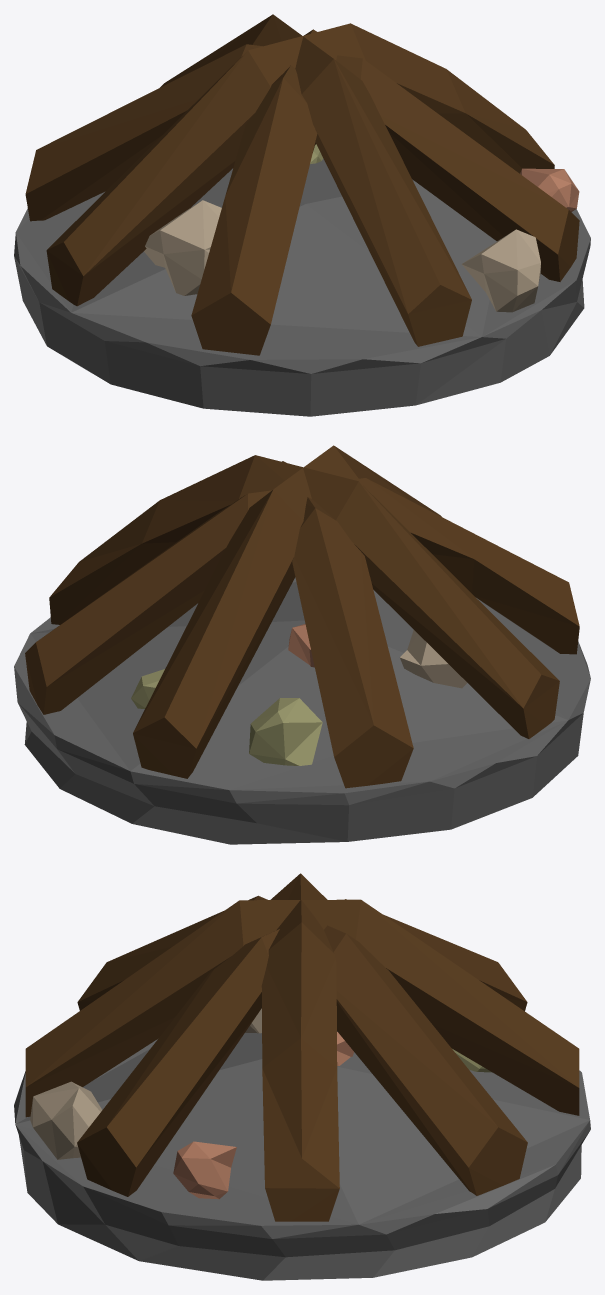
File: CampfireXD.fbx
3 renders of one model, top to bottom at view 1: azimuth 30°, elevation 25°; view 2: azimuth 150°, elevation 25°; view 3: azimuth 270°, elevation 25°, orthographic.
Parts seen in each view (by area): view 1: Campfire; view 2: Campfire; view 3: Campfire.
Part boxes in pixels (<box>): Campfire: <box>14,14,590,416</box>; Campfire: <box>14,445,590,844</box>; Campfire: <box>14,873,590,1280</box>.
Bounding box in the file's own units: 51.03 × 25.78 × 51.06.
